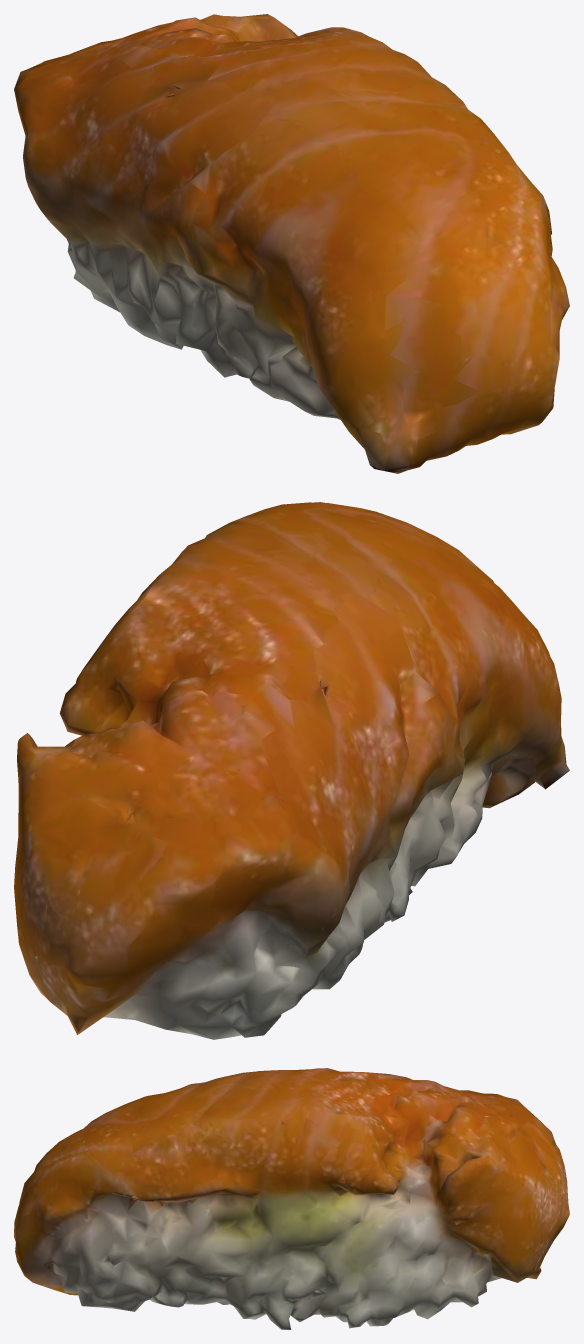
Rendered from salmon-transformed.glb.
The picture shows the model from 3 angles, top to bottom: view 1: azimuth 30°, elevation 25°; view 2: azimuth 150°, elevation 25°; view 3: azimuth 270°, elevation 25°; orthographic projection. The views are drawn at different scales.
Parts seen in each view (by area): view 1: Salmon; view 2: Salmon; view 3: Salmon.
Part boxes in pixels (x1=…): Salmon: x1=14, y1=14, x2=569, y2=473; Salmon: x1=14, y1=502, x2=569, y2=1039; Salmon: x1=14, y1=1068, x2=569, y2=1329.
Bounding box in the file's own units: 32.38 × 30.83 × 69.45.
Materials: 1 (1 with a texture image).
